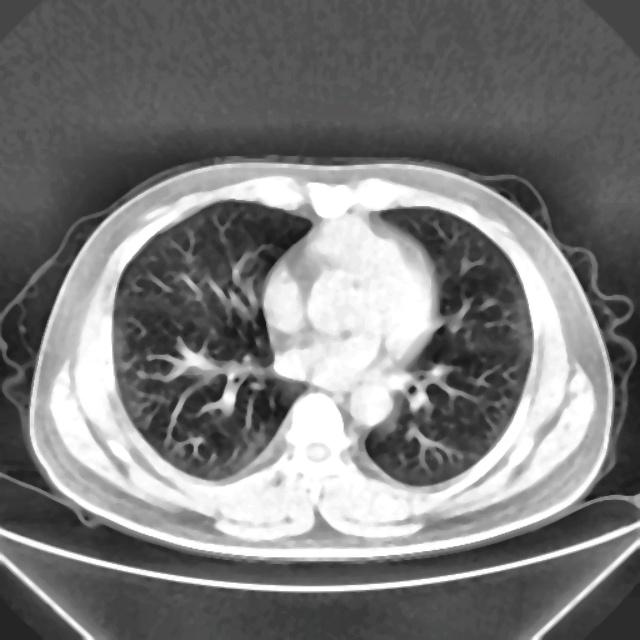covid: (23, 155, 627, 560)
